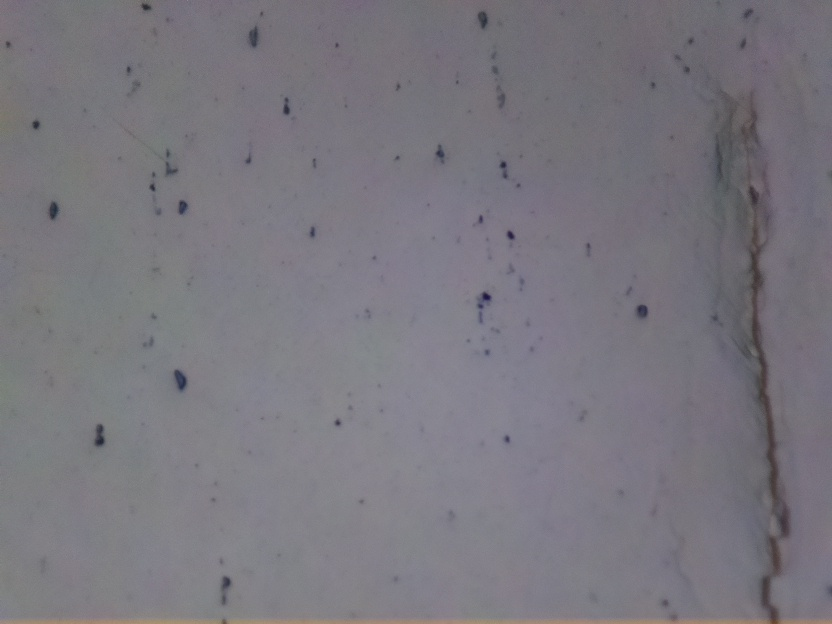crack: (710, 98, 798, 624)
